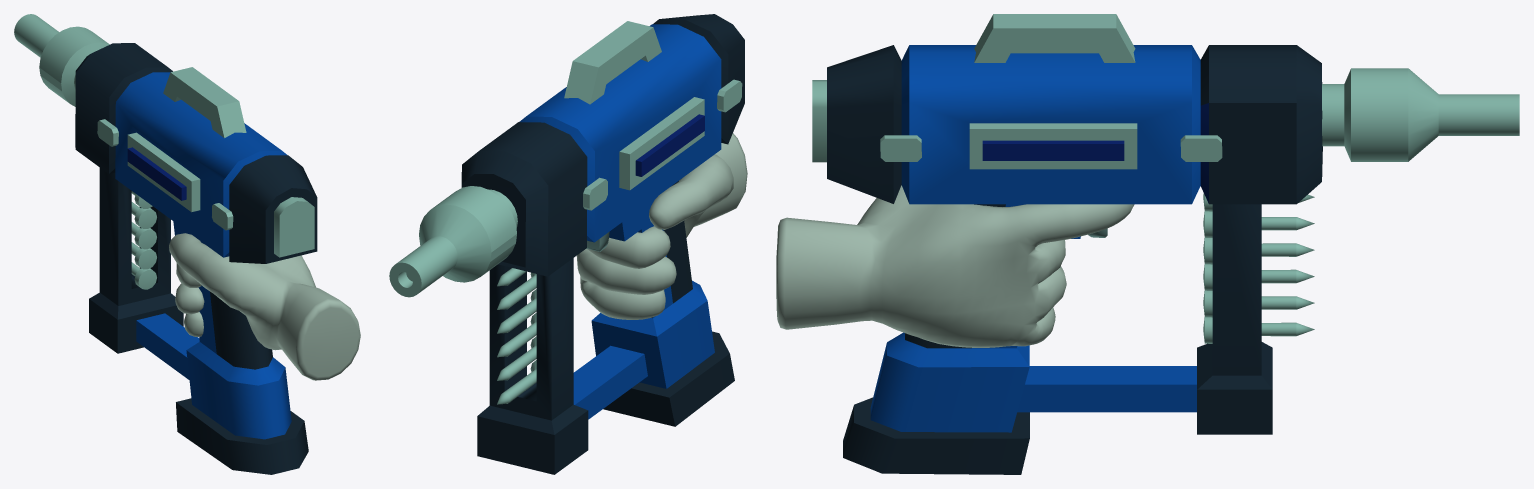
3 renders of one model, left to right at view 1: azimuth 30°, elevation 25°; view 2: azimuth 150°, elevation 25°; view 3: azimuth 270°, elevation 25°, orthographic. The views are drawn at different scales.
Visible parts, largest first — view 1: gun, hand; view 2: gun, hand; view 3: gun, hand.
Boxes of the visible parts, box(x1,y1,x2,y2) form: gun: box(14, 14, 317, 474); hand: box(169, 233, 360, 380); gun: box(389, 14, 744, 474); hand: box(576, 133, 747, 319); gun: box(812, 14, 1519, 474); hand: box(776, 185, 1134, 347).
Bounding box in the file's own units: 67.35 × 190 × 300.
